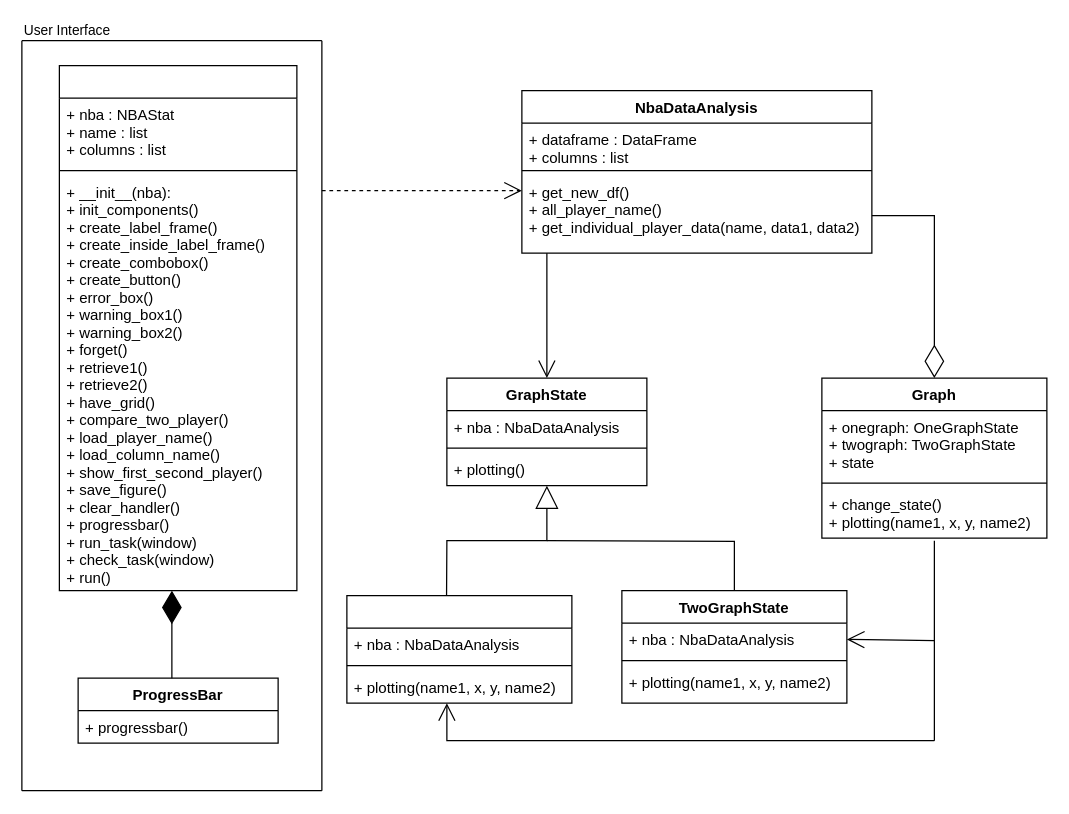
Some shapes in this 1069 by 814 pixel diagram are drawn without their labels. The box of each missing label's shape, as (x1, y1, x2, y2) in pixels:
NbaStatUI: (58, 64, 297, 591)
OneGraphState: (346, 594, 572, 703)
